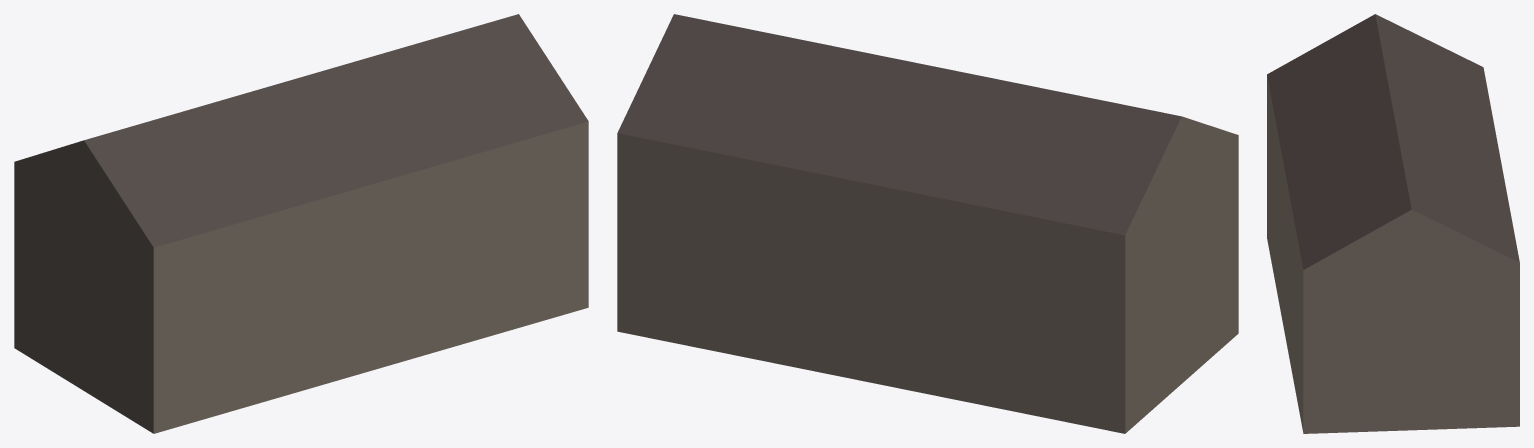
3 views of the same model, side by side, from view 1: azimuth 30°, elevation 25°; view 2: azimuth 150°, elevation 25°; view 3: azimuth 270°, elevation 25° (orthographic). The views are drawn at different scales.
Visible parts, largest first — view 1: HP-w1200721932; view 2: HP-w1200721932; view 3: HP-w1200721932.
Boxes of the visible parts, left/top/right/bottom form: HP-w1200721932: left=14, top=14, right=588, bottom=433; HP-w1200721932: left=617, top=14, right=1238, bottom=433; HP-w1200721932: left=1267, top=14, right=1519, bottom=433.
Bounding box in the file's own units: 15.93 × 8.08 × 8.39.
